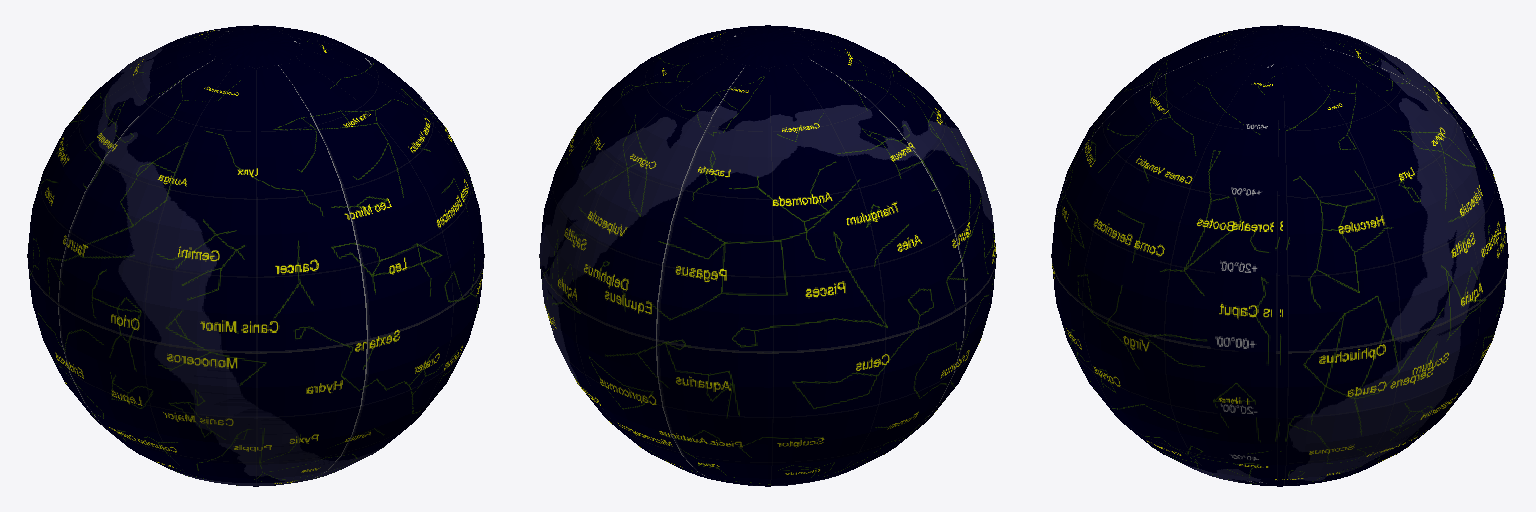
3 renders of one model, left to right at view 1: azimuth 30°, elevation 25°; view 2: azimuth 150°, elevation 25°; view 3: azimuth 270°, elevation 25°, orthographic.
Parts seen in each view (by area): view 1: Sphere; view 2: Sphere; view 3: Sphere.
Part boxes in pixels (bbox=[...]): Sphere: bbox=[27, 25, 484, 486]; Sphere: bbox=[539, 25, 996, 486]; Sphere: bbox=[1051, 25, 1508, 486].
Size of the model in its own units: 1.94 by 2 by 1.94.
1 materials, 1 textured.